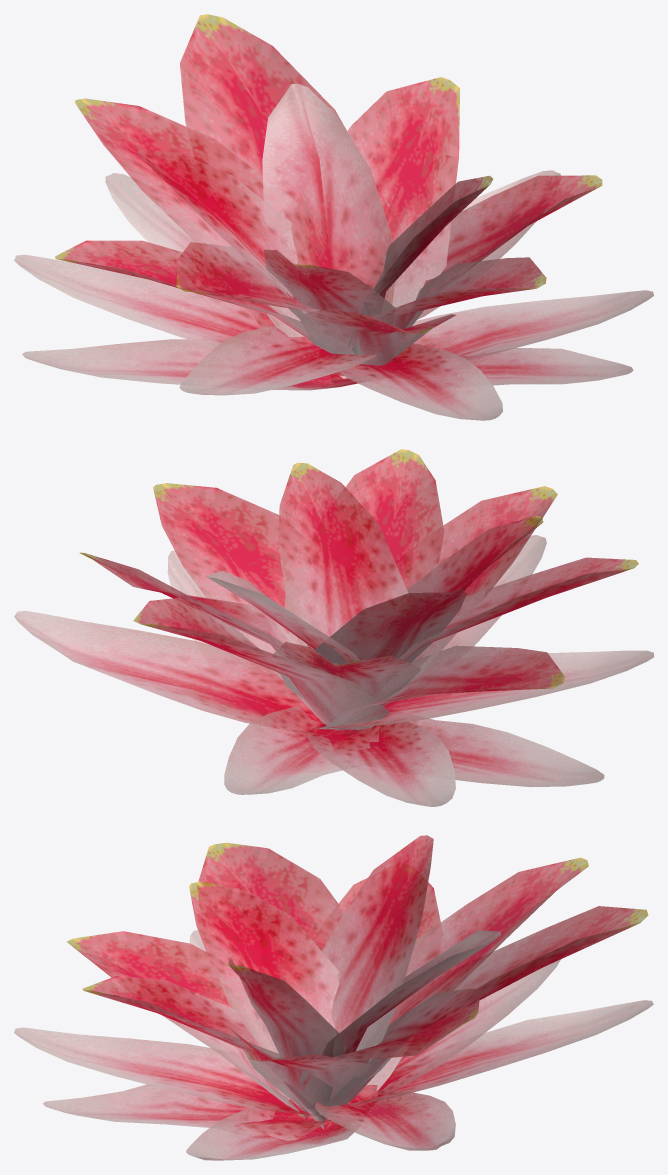
The model's file is preview.glb.
3 renders of one model, top to bottom at view 1: azimuth 30°, elevation 25°; view 2: azimuth 150°, elevation 25°; view 3: azimuth 270°, elevation 25°, orthographic. The views are drawn at different scales.
Parts seen in each view (by area): view 1: Lilypad_Blooming_Nymphaea_alba_A_Flower_glb; view 2: Lilypad_Blooming_Nymphaea_alba_A_Flower_glb; view 3: Lilypad_Blooming_Nymphaea_alba_A_Flower_glb.
Boxes of the visible parts, box(x1,y1,x2,y2) form: Lilypad_Blooming_Nymphaea_alba_A_Flower_glb: box(14, 14, 653, 420); Lilypad_Blooming_Nymphaea_alba_A_Flower_glb: box(14, 449, 653, 806); Lilypad_Blooming_Nymphaea_alba_A_Flower_glb: box(14, 835, 653, 1160).
Size of what is drawn, in the model's own units: 0.1316 by 0.0537 by 0.14.
Materials: 1 (1 with a texture image).
